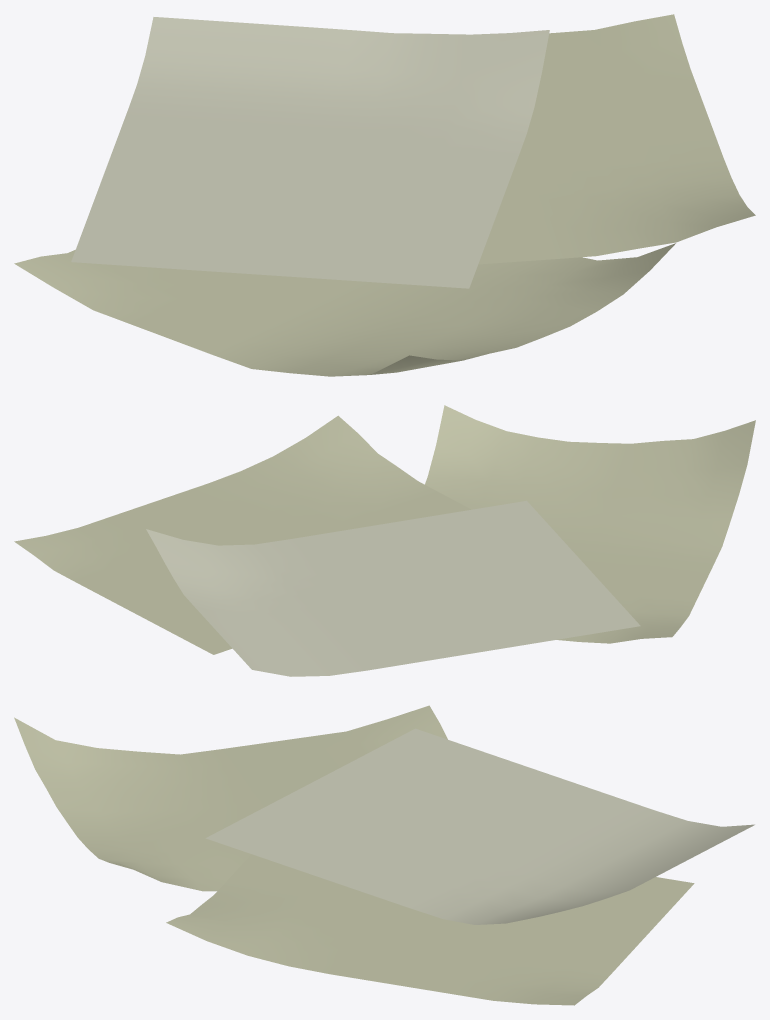
Rendered from Scattered Papers 2.fbx.
The picture shows the model from 3 angles, top to bottom: view 1: azimuth 30°, elevation 25°; view 2: azimuth 150°, elevation 25°; view 3: azimuth 270°, elevation 25°; orthographic projection. The views are drawn at different scales.
Parts seen in each view (by area): view 1: pPlane25; view 2: pPlane25; view 3: pPlane25.
Boxes of the visible parts, <box> form: pPlane25: <box>14,14,755,376</box>; pPlane25: <box>14,405,755,676</box>; pPlane25: <box>14,705,754,1005</box>.
Bounding box in the file's own units: 2.14 × 0.2011 × 2.22.
